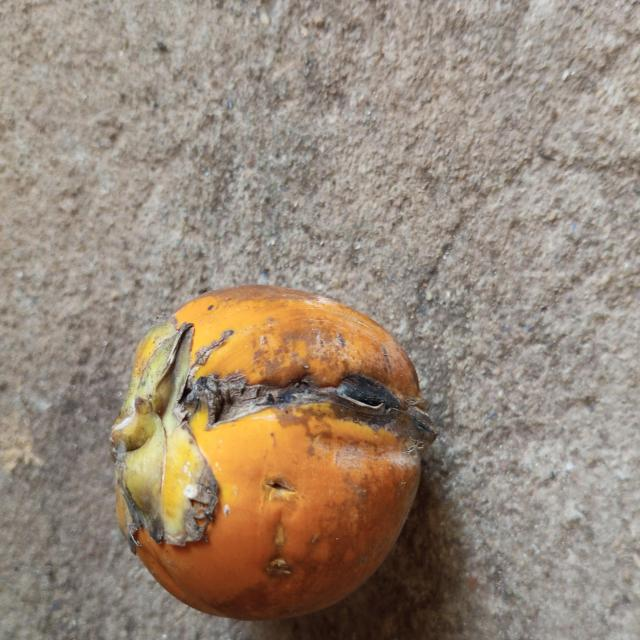damaged: (110, 287, 432, 624)
